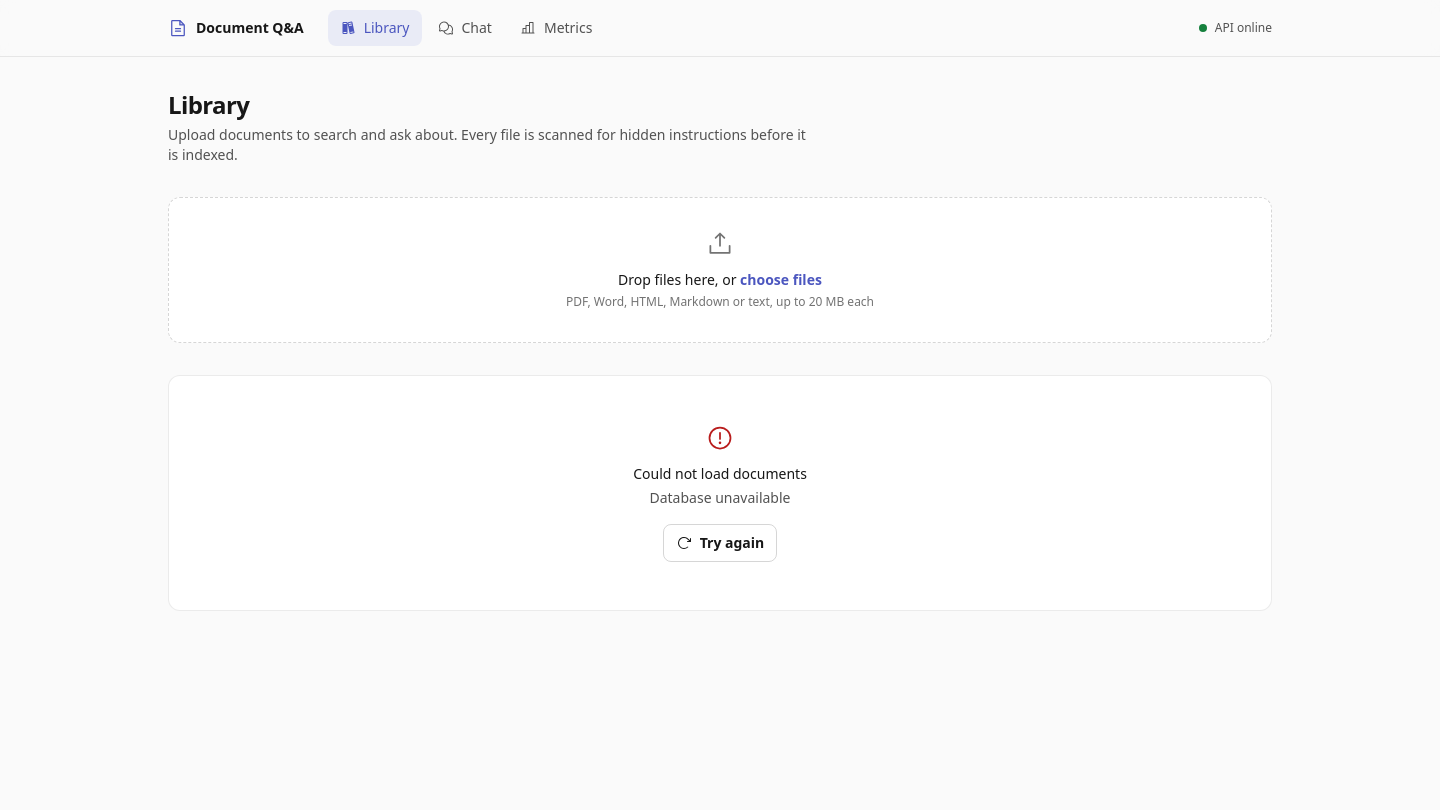
document list › shows the server error and lets the user retry
Expected: the text "Database unavailable" is shown, [650, 488, 790, 507]
Click the button "Try again" at (720, 543), box [663, 524, 777, 562]
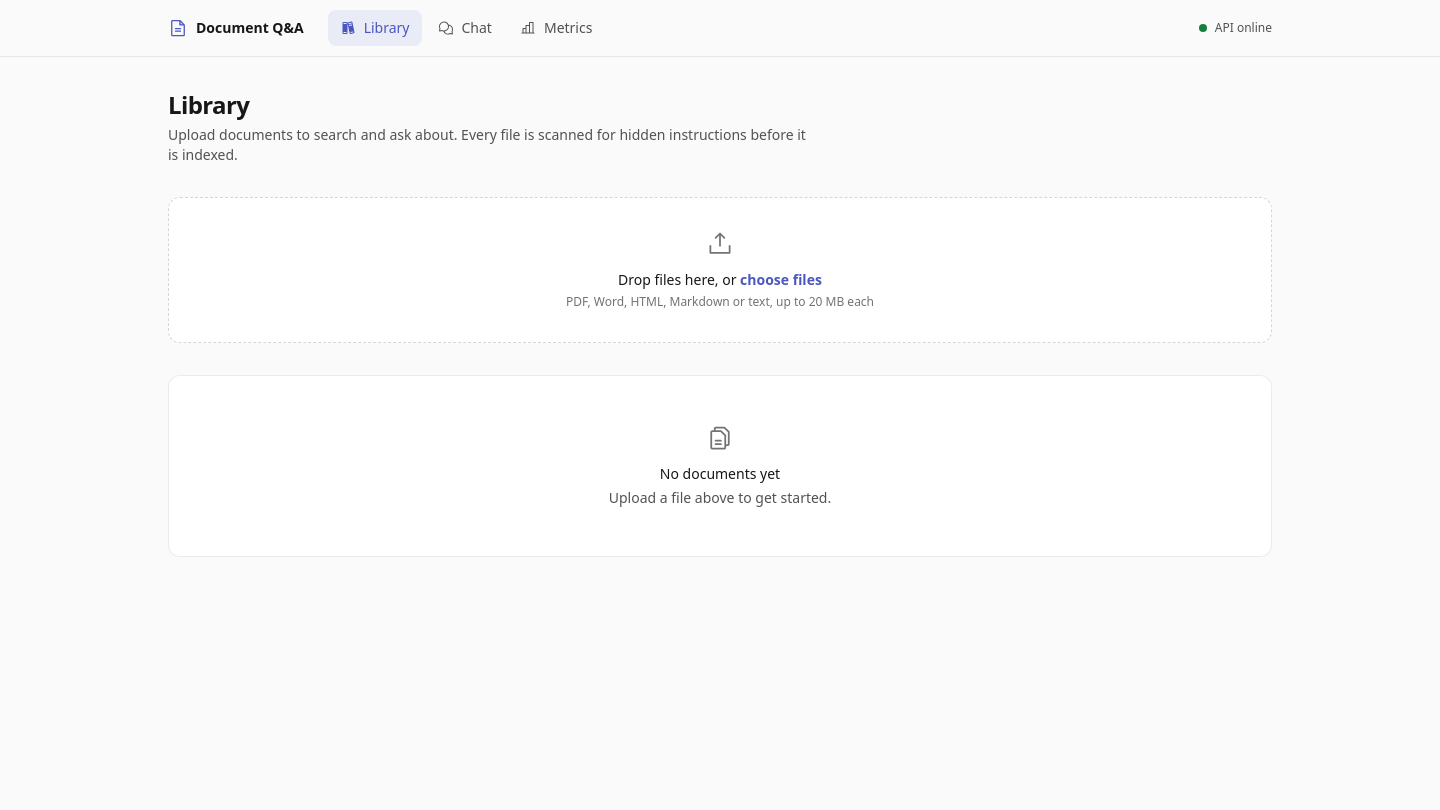
Expected: the text "No documents yet" is shown, [660, 464, 780, 483]
